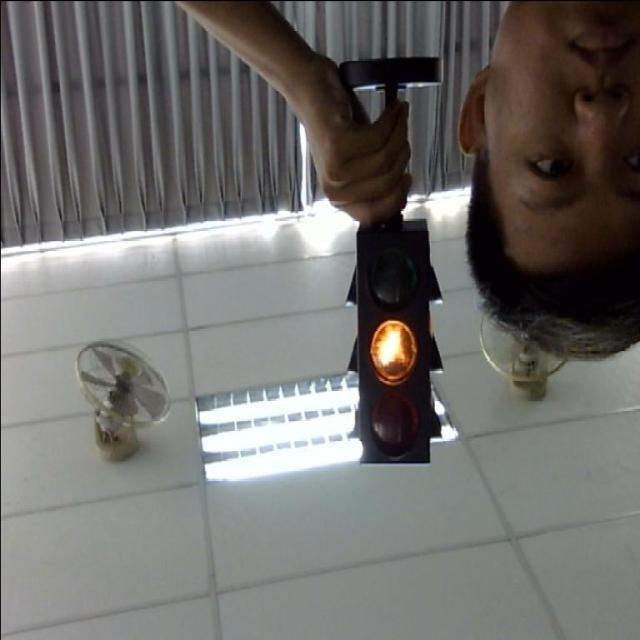yellow light: (364, 315, 424, 385)
